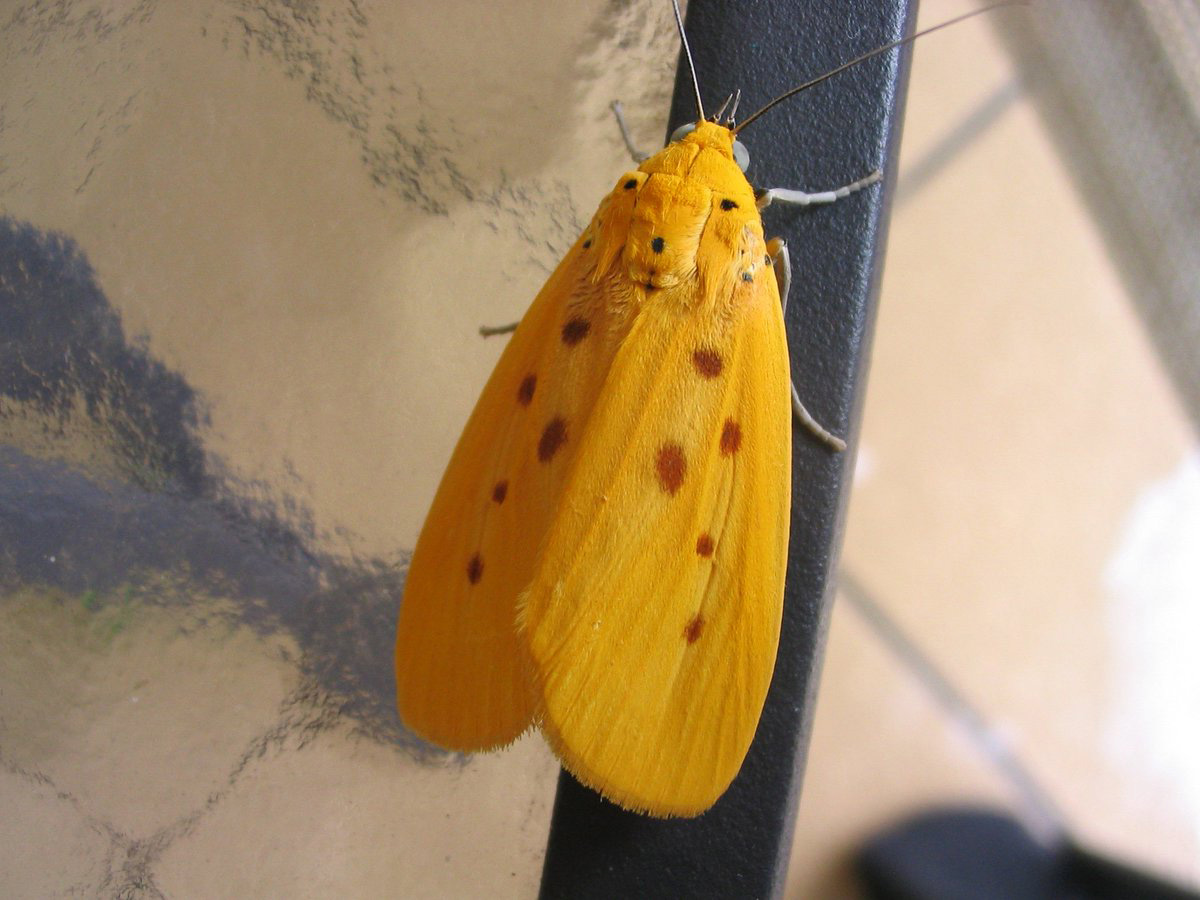Agape chloropyga: (388, 1, 1013, 826)
moth: (390, 2, 1015, 828)
